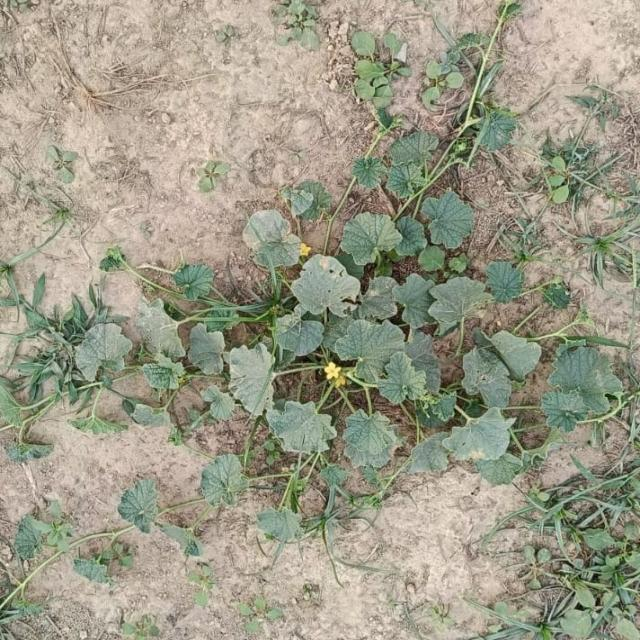plant: (0, 66, 628, 556)
